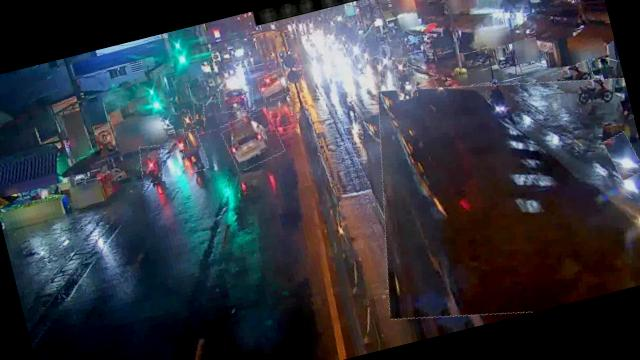Bike: (550, 61, 598, 100), (604, 131, 640, 181), (178, 128, 208, 174), (136, 144, 166, 185), (468, 82, 498, 121), (463, 46, 498, 74), (392, 66, 418, 101), (408, 79, 442, 105), (368, 54, 391, 82), (192, 102, 208, 128), (390, 57, 410, 76), (378, 46, 393, 71), (172, 129, 188, 152), (351, 54, 366, 78), (342, 90, 356, 114), (180, 108, 193, 128)
Car: (220, 107, 284, 171), (217, 83, 256, 115), (256, 70, 292, 103)
Truck: (348, 43, 640, 343)
